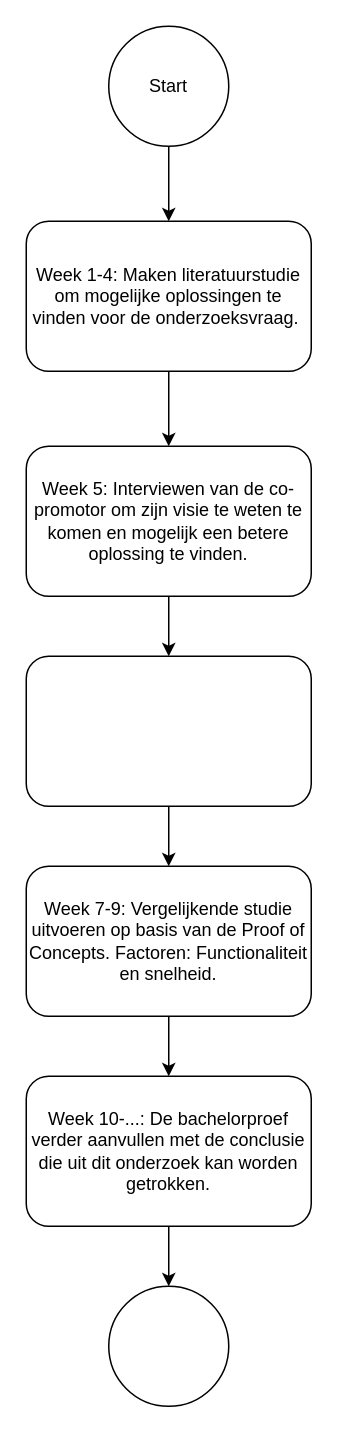
The diagram is 338 pixels wide and 1433 high, and some of its shapes have lost their labels. Each missing label, with the centre of its shape:
Einde: point 168,1345
Week 6: Opstellen Proof of Concepts om de oplossingen te vergelijken.: point 168,730
